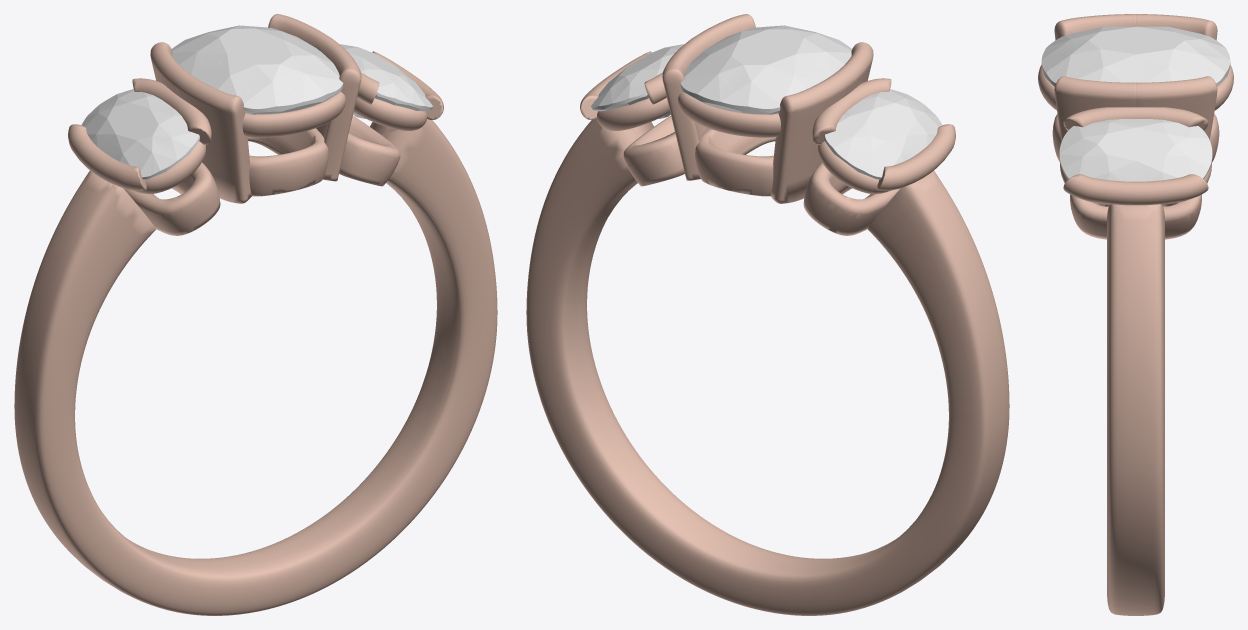
The model's file is diamond-cushion-rosegold-halfmoonbezel-straightband-3stone.glb.
3 views of the same model, side by side, from view 1: azimuth 30°, elevation 25°; view 2: azimuth 150°, elevation 25°; view 3: azimuth 270°, elevation 25° (orthographic).
Visible parts, largest first — view 1: metal.003, stone, side.001, side; view 2: metal.003, stone, side.001, side; view 3: metal.003, stone, side.
Part boxes in pixels (x1,y1,x2,y2): metal.003: (14,14,497,615); stone: (171,25,343,114); side.001: (81,89,199,179); side: (340,44,432,118); metal.003: (526,14,1009,615); stone: (680,25,852,114); side.001: (824,89,942,179); side: (591,44,683,118); metal.003: (1038,14,1233,615); stone: (1041,26,1230,86); side: (1059,119,1212,181).
Size of the model in its own units: 20.1 by 23.04 by 7.42.
